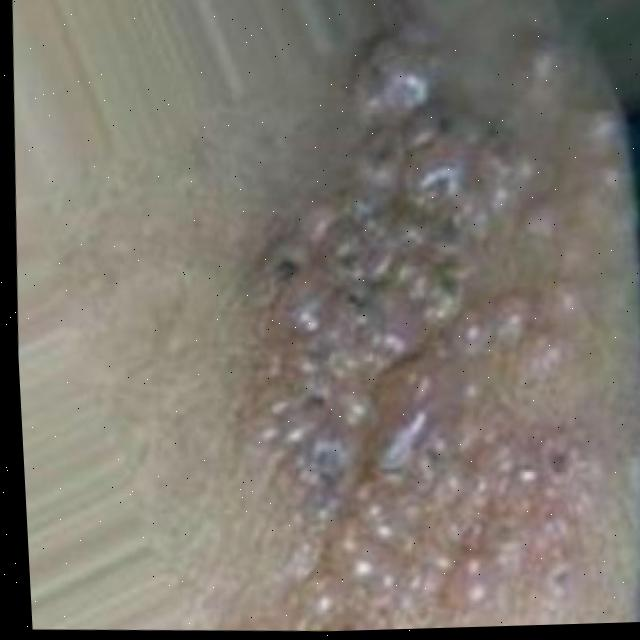Shingles: (194, 21, 640, 634)
